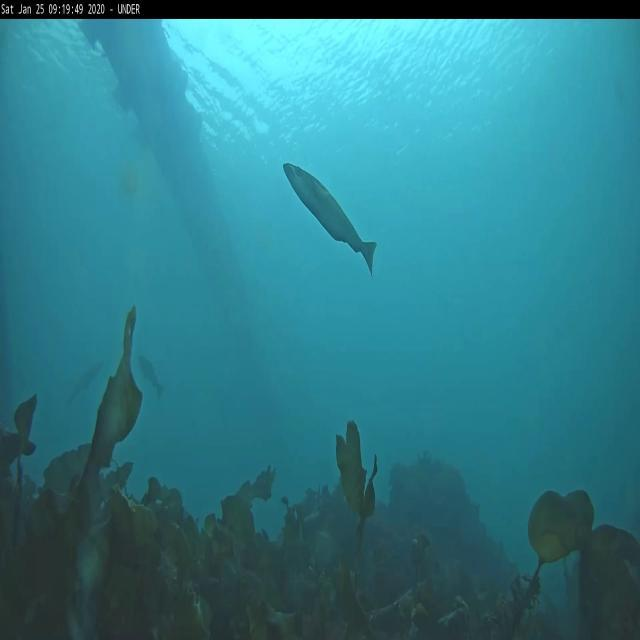fish: (281, 161, 377, 273), (64, 354, 105, 412), (139, 353, 168, 404)
